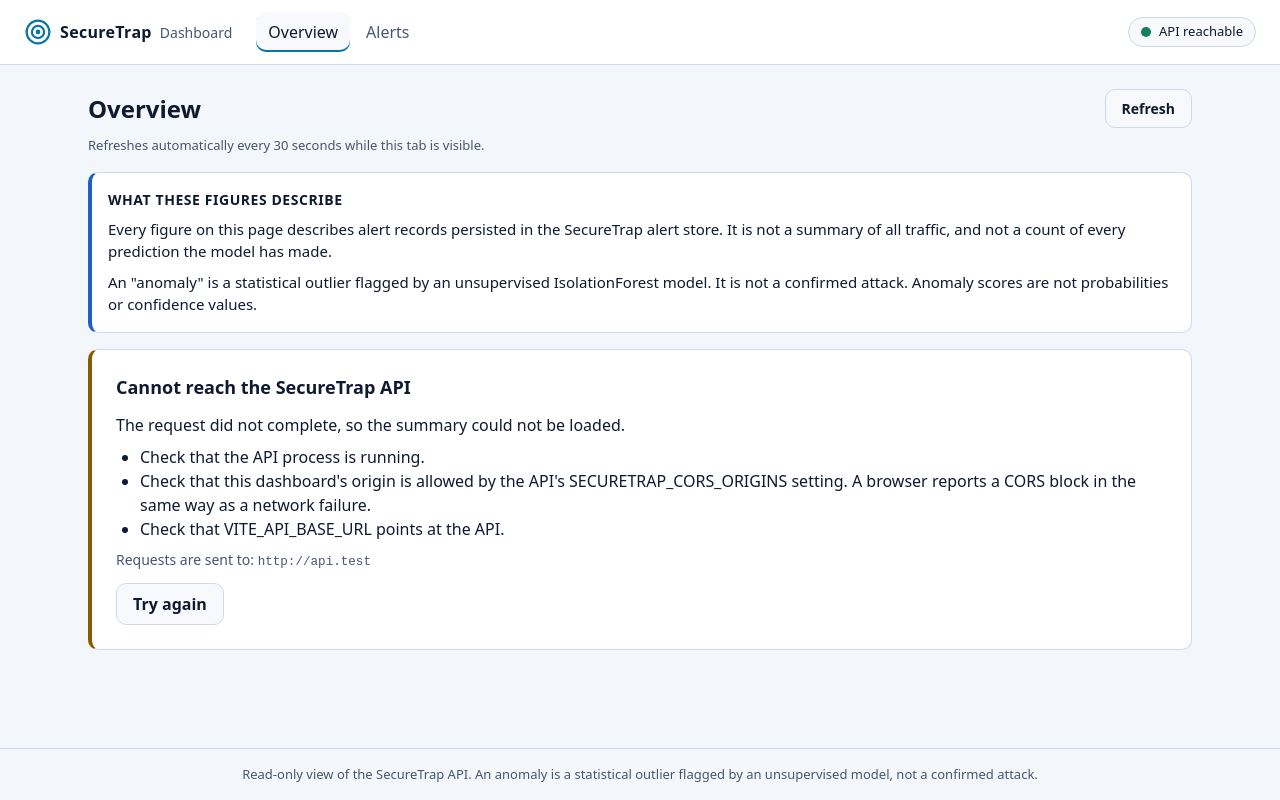
OverviewPage: API unavailable › recovers when the API comes back and the user tries again
Expected: the heading "Cannot reach the SecureTrap API" is shown, top-left (116, 374), bottom-right (411, 398)
What coordinates should you click on to do the following:
click the button "Try again"
I would click on:
 (170, 604)
Its box is top-left (116, 583), bottom-right (224, 625).
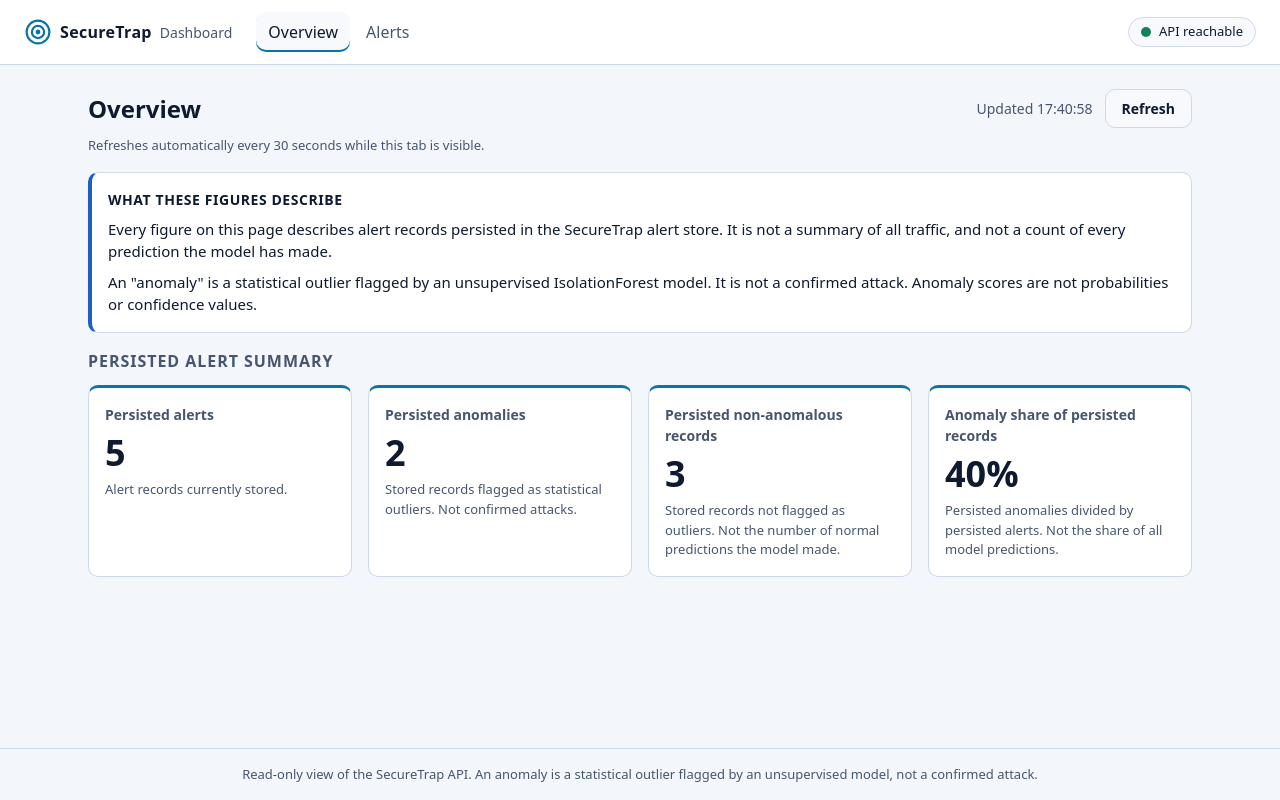
Now the text "5" is shown, box top-left (105, 428), bottom-right (126, 476)
Now the heading "Cannot reach the SecureTrap API" is gone
